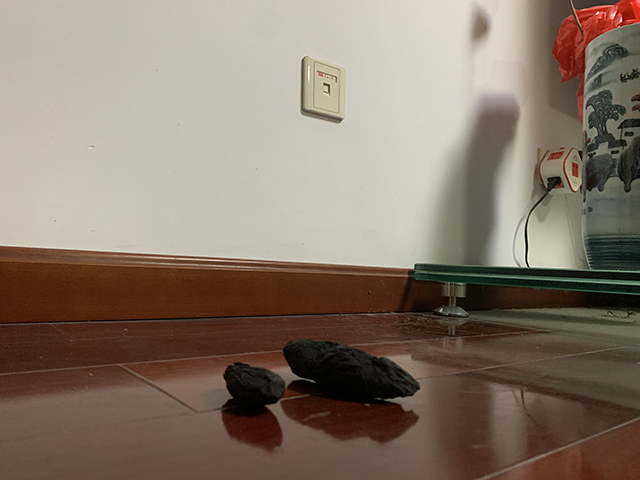feces: (222, 336, 423, 406)
